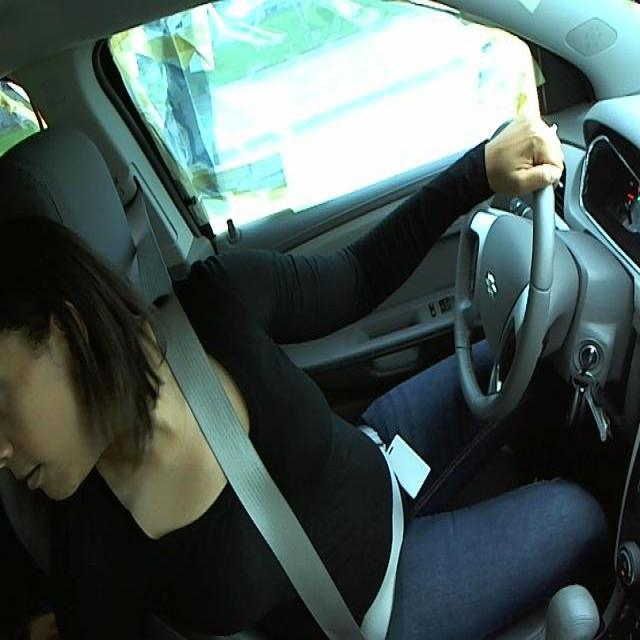seatbelt: (159, 353, 378, 639)
